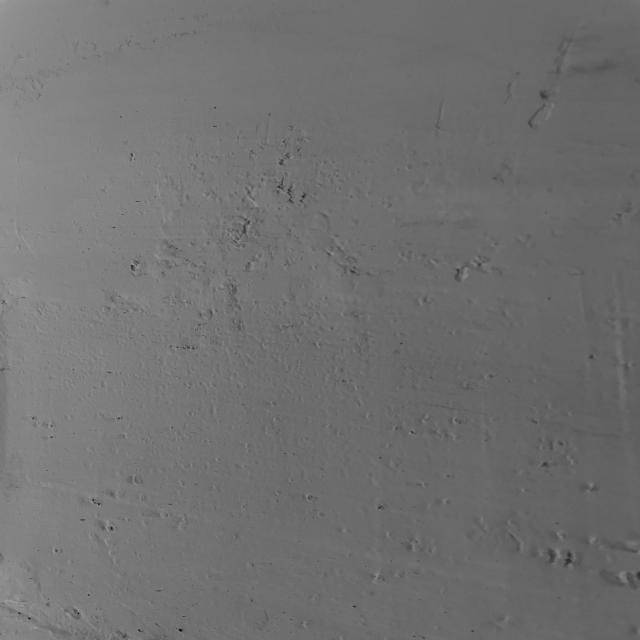rough and patchy surface: (9, 10, 630, 638)
